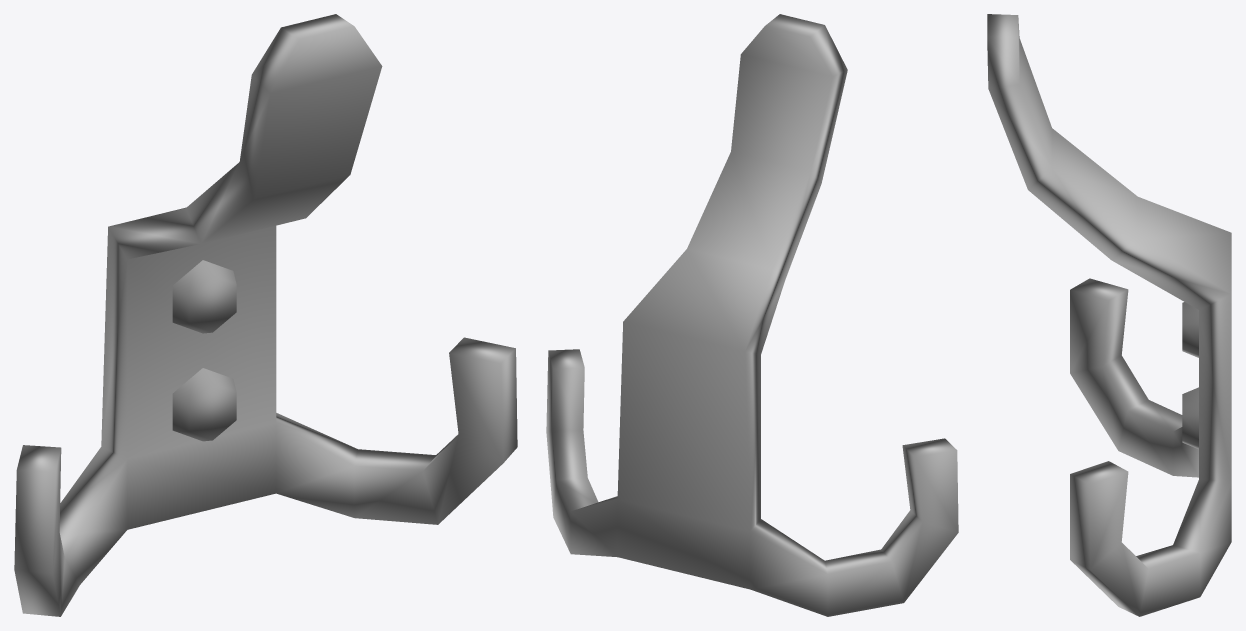
The model's file is prop_020.fbx.
3 renders of one model, left to right at view 1: azimuth 30°, elevation 25°; view 2: azimuth 150°, elevation 25°; view 3: azimuth 270°, elevation 25°, orthographic. The views are drawn at different scales.
Visible parts, largest first — view 1: prop_020; view 2: prop_020; view 3: prop_020.
Part boxes in pixels (x1,y1,x2,y2): prop_020: (14, 14, 517, 616); prop_020: (546, 14, 958, 616); prop_020: (987, 14, 1231, 616).
Size of the model in its own units: 14.18 by 7.05 by 16.13.
